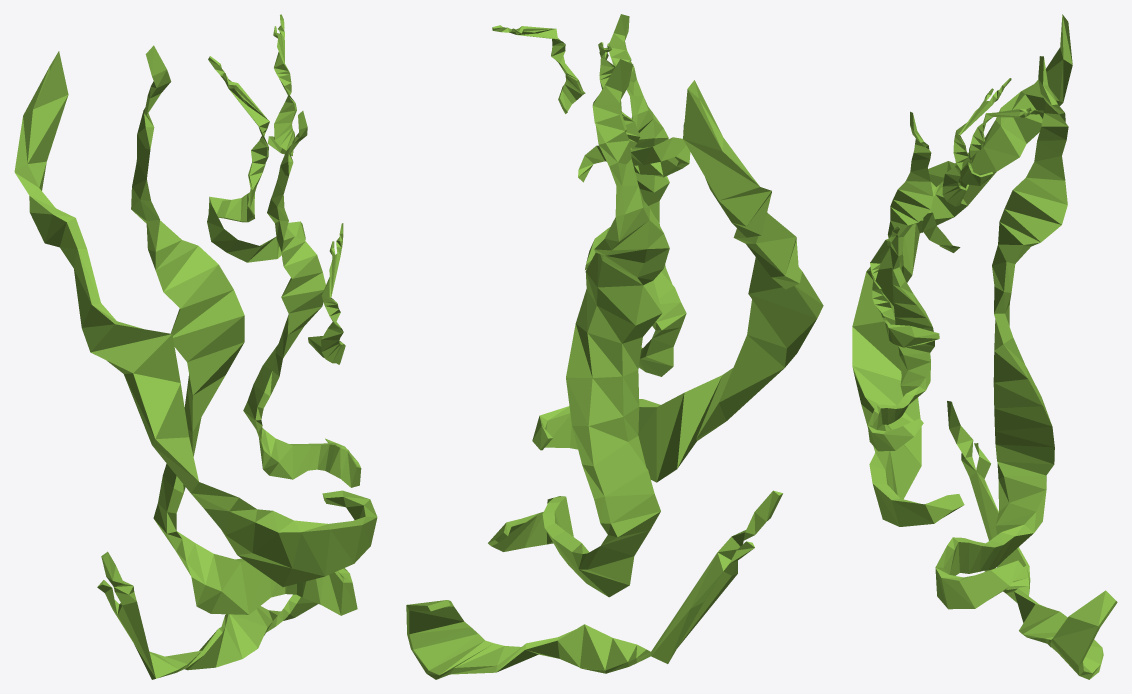
Rendered from Kelp.fbx.
3 renders of one model, left to right at view 1: azimuth 30°, elevation 25°; view 2: azimuth 150°, elevation 25°; view 3: azimuth 270°, elevation 25°, orthographic. The views are drawn at different scales.
Visible parts, largest first — view 1: group54554051.001, group563104215.001, group233375233.001, group713139748.001, group613521845.001, group1375527618.001, group1912093115.001; view 2: group563104215.001, group54554051.001, group713139748.001, group233375233.001, group613521845.001, group1912093115.001; view 3: group563104215.001, group54554051.001, group233375233.001, group713139748.001, group613521845.001, group1375527618.001, group1912093115.001.
Part boxes in pixels (x1,y1,x2,y2): group54554051.001: [14, 51, 377, 587]; group563104215.001: [131, 45, 357, 615]; group233375233.001: [243, 111, 361, 487]; group713139748.001: [97, 551, 317, 679]; group613521845.001: [207, 56, 305, 262]; group1375527618.001: [308, 223, 345, 364]; group1912093115.001: [267, 14, 296, 156]; group563104215.001: [488, 59, 669, 597]; group54554051.001: [532, 80, 823, 482]; group713139748.001: [406, 490, 782, 679]; group233375233.001: [609, 14, 686, 376]; group613521845.001: [578, 42, 690, 182]; group1912093115.001: [492, 25, 585, 113]; group563104215.001: [935, 56, 1068, 609]; group54554051.001: [852, 14, 1072, 526]; group233375233.001: [867, 111, 934, 451]; group713139748.001: [947, 401, 1117, 679]; group613521845.001: [922, 78, 1011, 252]; group1375527618.001: [870, 226, 939, 347]; group1912093115.001: [960, 107, 1043, 185].
Bounding box in the file's own units: 113 × 208 × 89.44.
